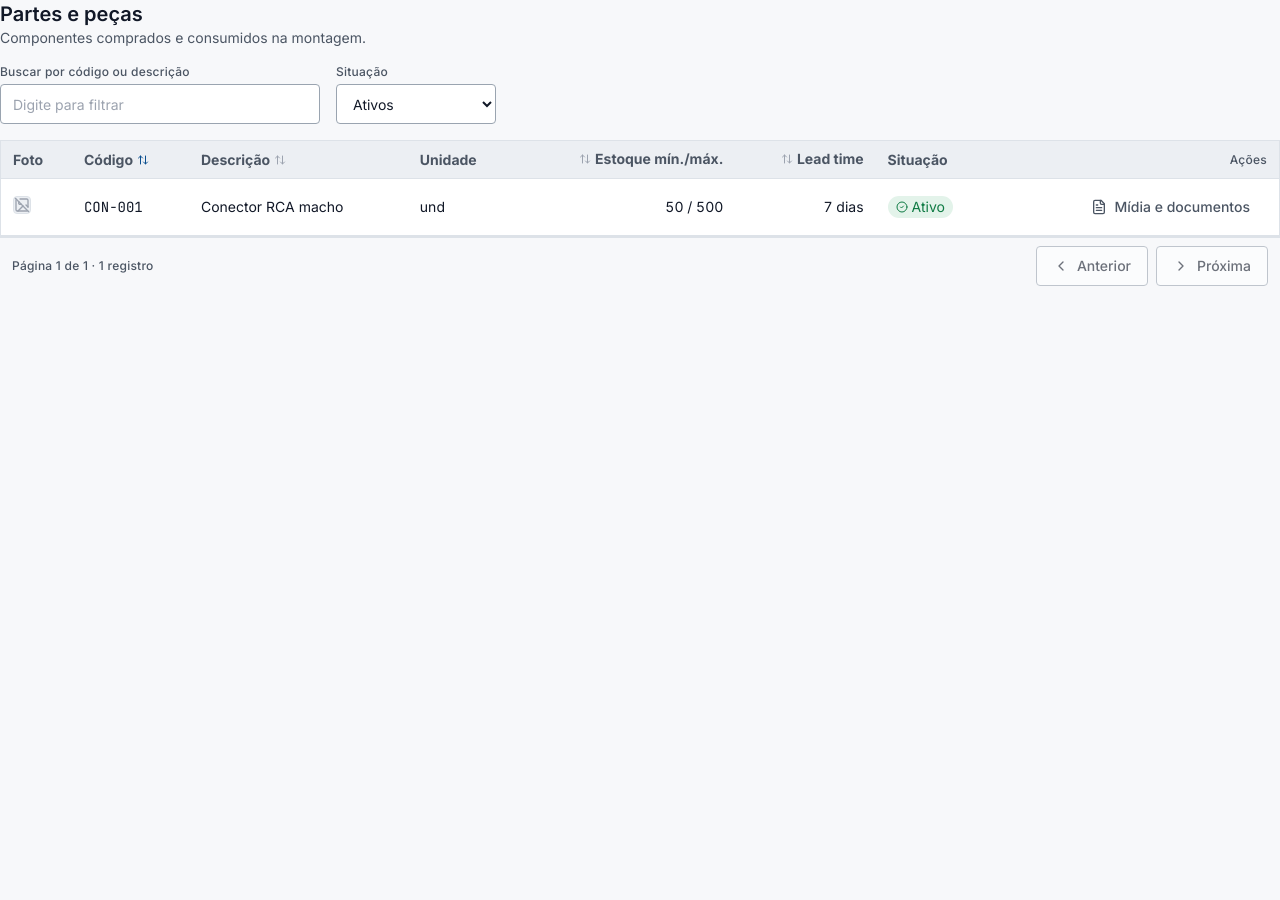
PartesPecas › "Mídia e documentos" abre o painel do registro, so leitura para quem nao edita
Click the button with aria-label "Mídia e documentos de CON-001" at point(1170, 207), box [1074,187,1267,227]
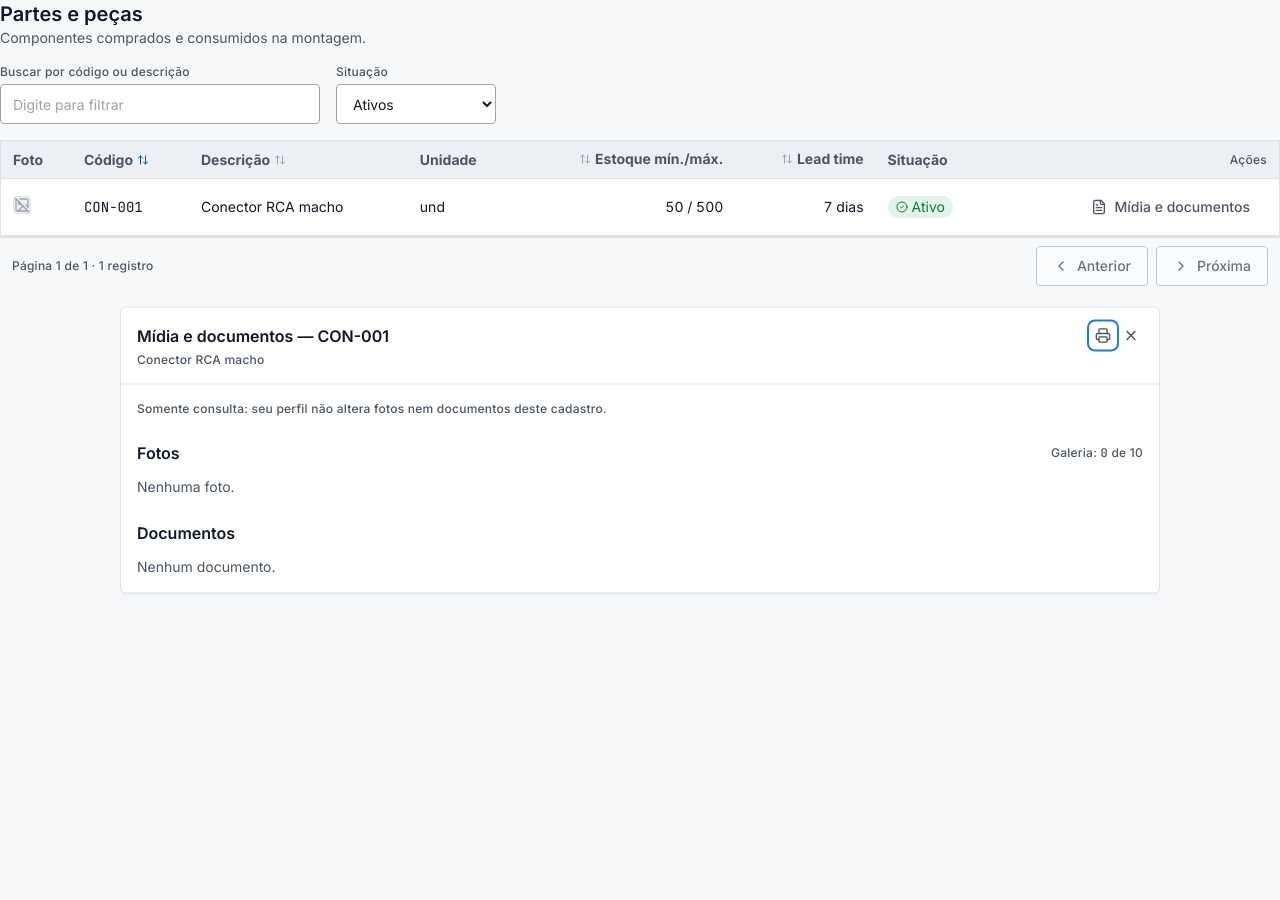
Expected: the text "Somente consulta" is shown, [137,400,607,416]
